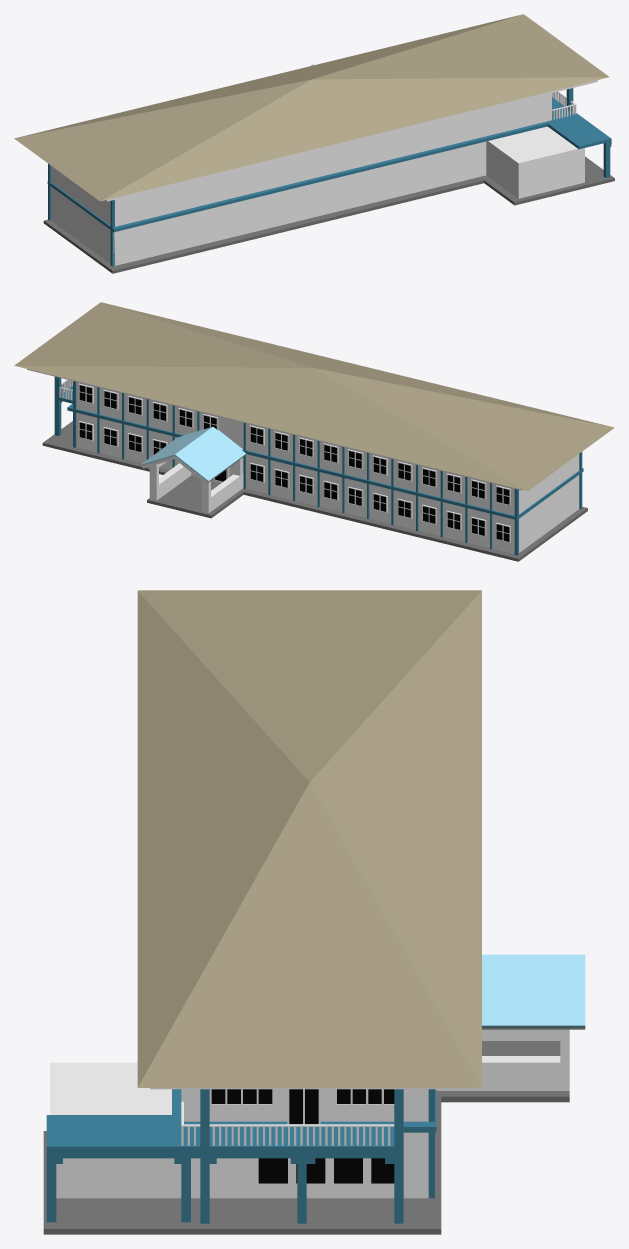
Rendered from Mahugany.glb.
3 renders of one model, top to bottom at view 1: azimuth 30°, elevation 25°; view 2: azimuth 150°, elevation 25°; view 3: azimuth 270°, elevation 25°, orthographic. The views are drawn at different scales.
Parts seen in each view (by area): view 1: pyramid; view 2: pyramid; view 3: pyramid.
Boxes of the visible parts, box(x1,y1,x2,y2) form: pyramid: box(14, 14, 614, 273); pyramid: box(14, 302, 614, 561); pyramid: box(43, 590, 585, 1234).
Bounding box in the file's own units: 23.5 × 4.88 × 10.81.
9 materials, 9 textured.
